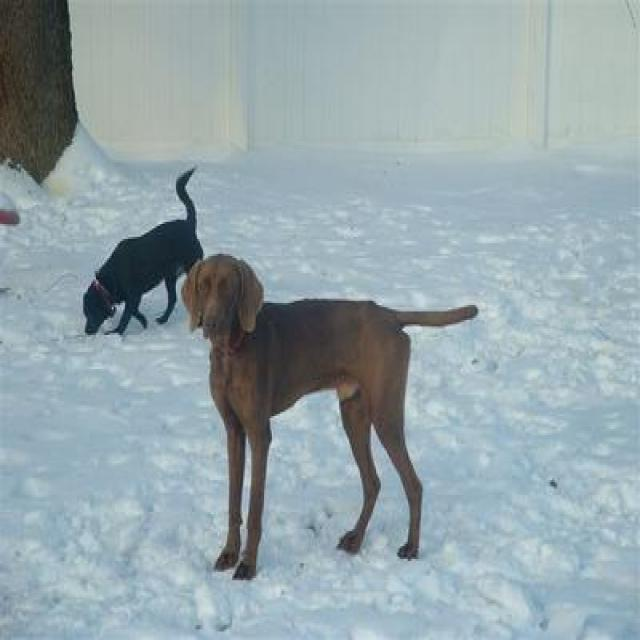dogs: (181, 255, 478, 582), (80, 163, 204, 340)
